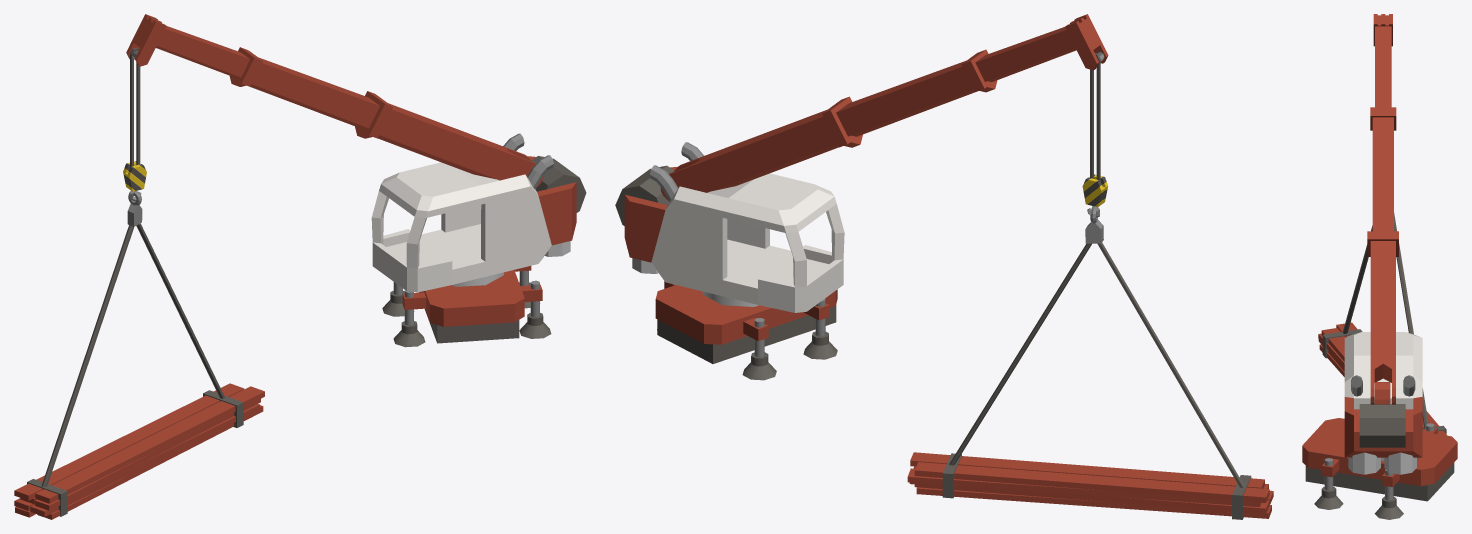
Rendered from Steam_CranePuzzle_Crane.FBX.
3 views of the same model, side by side, from view 1: azimuth 30°, elevation 25°; view 2: azimuth 150°, elevation 25°; view 3: azimuth 270°, elevation 25° (orthographic). The views are drawn at different scales.
Visible parts, largest first — view 1: Cab, Arm, Planks, Stand, PlankRope, Line, End, Crane_Piece, Ring2; view 2: Cab, Planks, Arm, Stand, PlankRope, Line, End, Crane_Piece, Ring2; view 3: Arm, Stand, Cab, Crane_Piece (×5), Planks, PlankRope, Ring2, Ring, Connection, End.
Boxes of the visible parts, x1=… form: Cab: x1=371, y1=156, x2=576, y2=292; Arm: x1=156, y1=26, x2=543, y2=187; Planks: x1=14, y1=383, x2=264, y2=519; Stand: x1=382, y1=266, x2=551, y2=347; PlankRope: x1=41, y1=191, x2=224, y2=486; Line: x1=123, y1=48, x2=146, y2=200; End: x1=126, y1=14, x2=166, y2=66; Crane_Piece: x1=531, y1=156, x2=586, y2=212; Ring2: x1=355, y1=91, x2=392, y2=138; Cab: x1=624, y1=167, x2=844, y2=312; Planks: x1=907, y1=452, x2=1273, y2=519; Arm: x1=660, y1=27, x2=1076, y2=201; Stand: x1=655, y1=281, x2=837, y2=380; PlankRope: x1=949, y1=207, x2=1244, y2=487; Line: x1=1082, y1=53, x2=1107, y2=217; End: x1=1065, y1=14, x2=1108, y2=70; Crane_Piece: x1=615, y1=165, x2=674, y2=225; Ring2: x1=822, y1=96, x2=862, y2=147; Arm: x1=1370, y1=26, x2=1395, y2=404; Stand: x1=1302, y1=418, x2=1457, y2=519; Cab: x1=1344, y1=332, x2=1422, y2=460; Crane_Piece (×5): x1=1348, y1=375, x2=1416, y2=474; Planks: x1=1318, y1=322, x2=1446, y2=435; PlankRope: x1=1342, y1=213, x2=1428, y2=428; Ring2: x1=1367, y1=231, x2=1398, y2=256; Ring: x1=1370, y1=107, x2=1396, y2=130; Connection: x1=1375, y1=382, x2=1390, y2=404; End: x1=1373, y1=14, x2=1392, y2=46.
Size of the model in its own units: 35.06 by 25.75 by 9.21.
3 materials, 2 textured.
